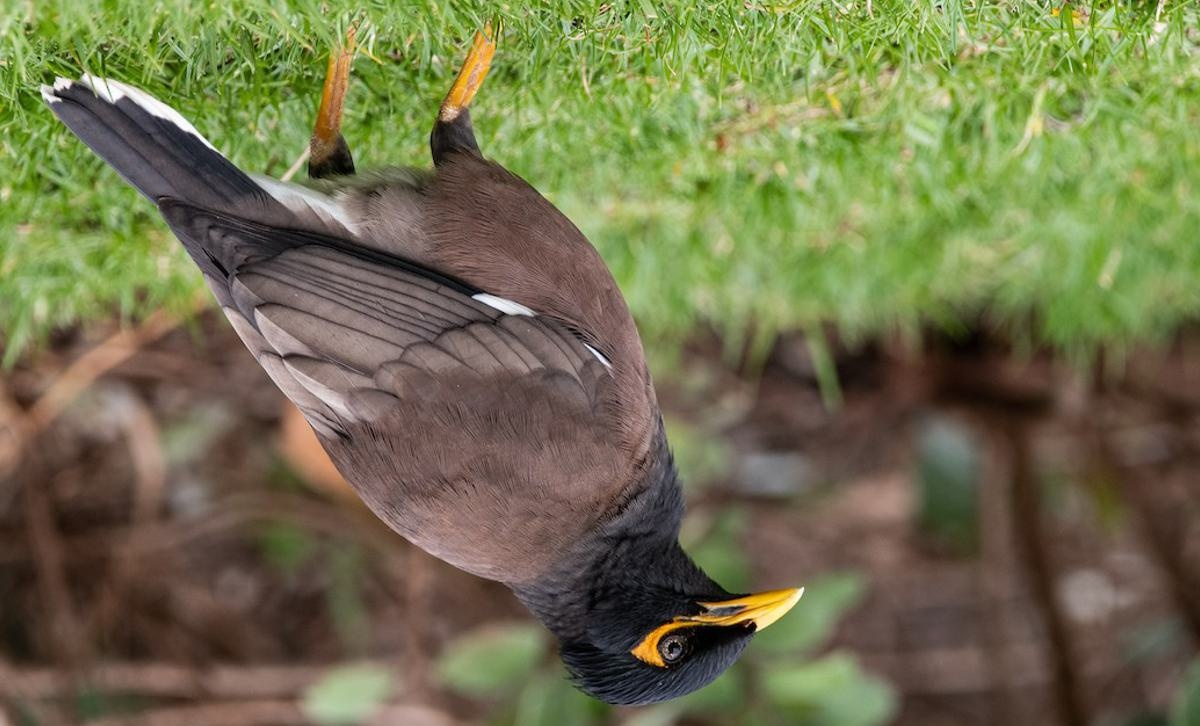myna: (57, 46, 816, 704)
